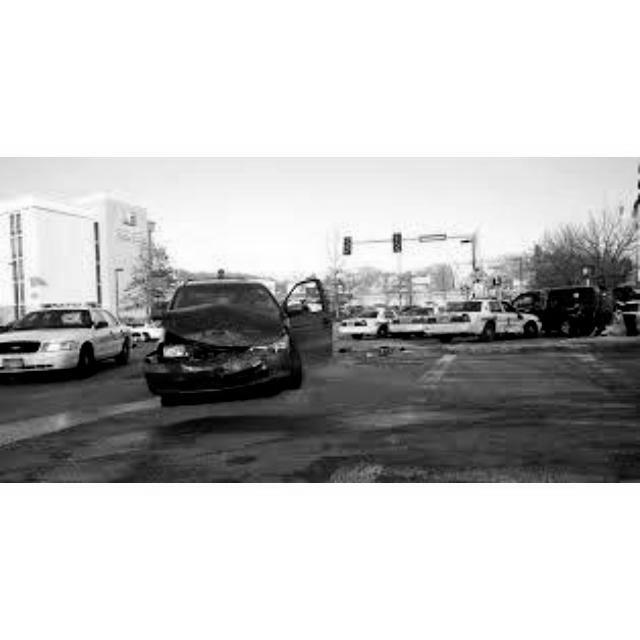bonnet-dent: (165, 298, 273, 342)
front-bumper-dent: (177, 357, 266, 389)
